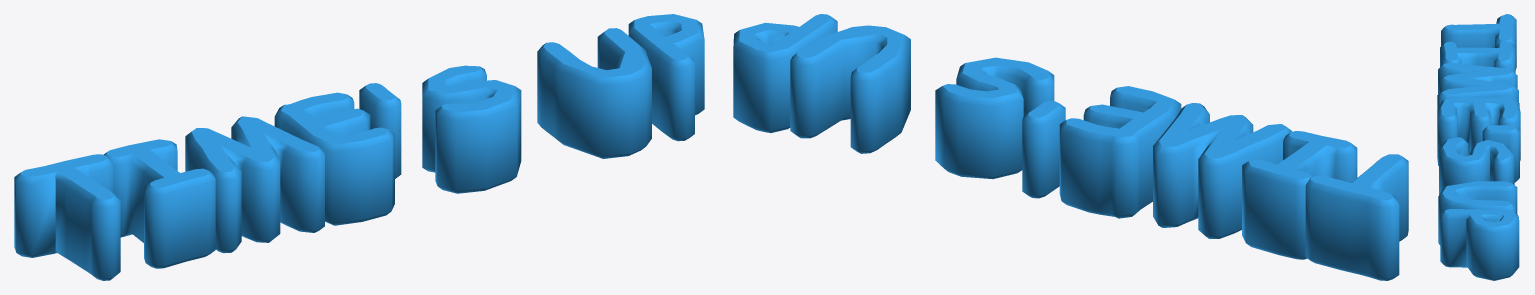
The model's file is TimesUp.fbx.
3 renders of one model, left to right at view 1: azimuth 30°, elevation 25°; view 2: azimuth 150°, elevation 25°; view 3: azimuth 270°, elevation 25°, orthographic. The views are drawn at different scales.
Visible parts, largest first — view 1: TimesUP; view 2: TimesUP; view 3: TimesUP.
Part boxes in pixels (bbox=[...]): TimesUP: bbox=[14, 14, 704, 280]; TimesUP: bbox=[733, 14, 1408, 280]; TimesUP: bbox=[1437, 14, 1520, 280].
Size of the model in its own units: 402 by 46 by 65.24.
